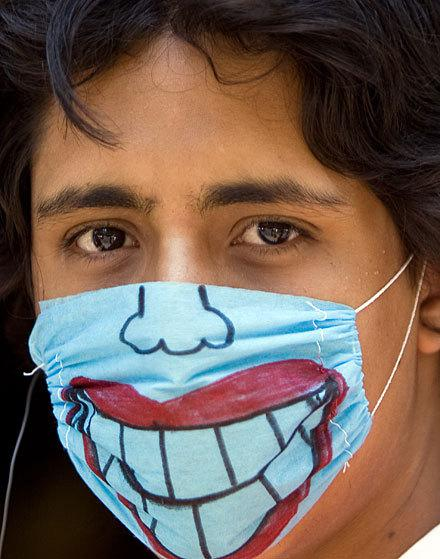OK: (40, 168, 427, 555)
